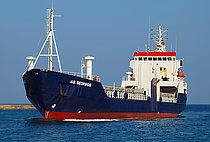Ship: (15, 20, 191, 125)
